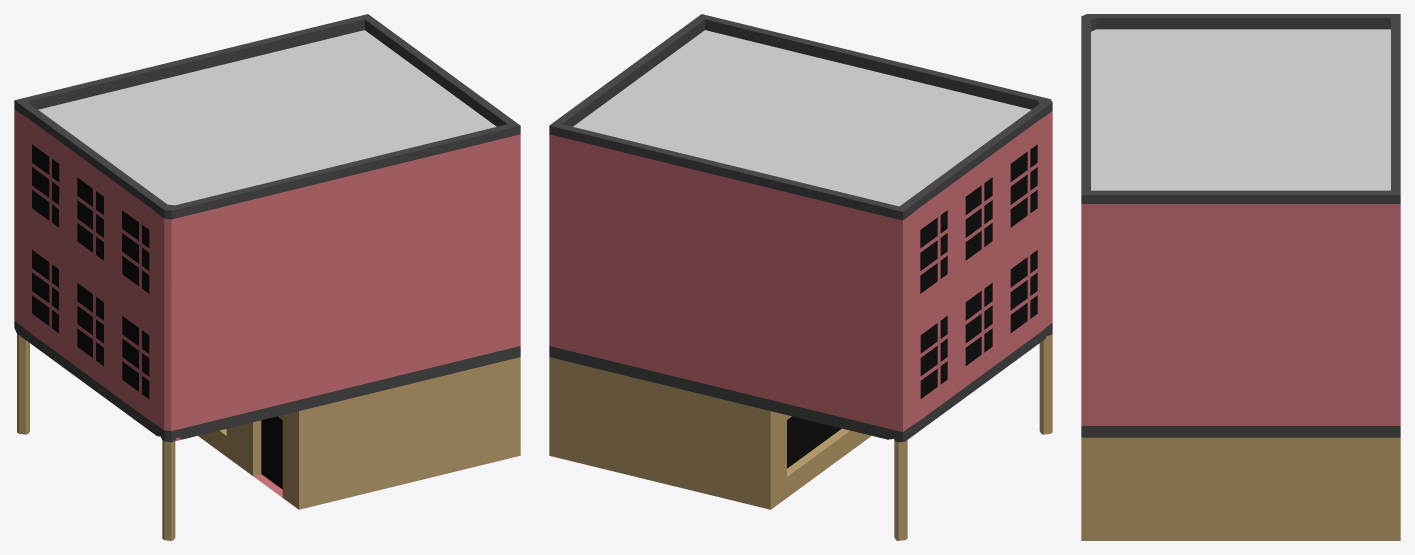
File: house-6.glb
The picture shows the model from 3 angles, left to right: view 1: azimuth 30°, elevation 25°; view 2: azimuth 150°, elevation 25°; view 3: azimuth 270°, elevation 25°; orthographic projection. The views are drawn at different scales.
Size of the model in its own units: 1.95 by 1.74 by 1.46.
